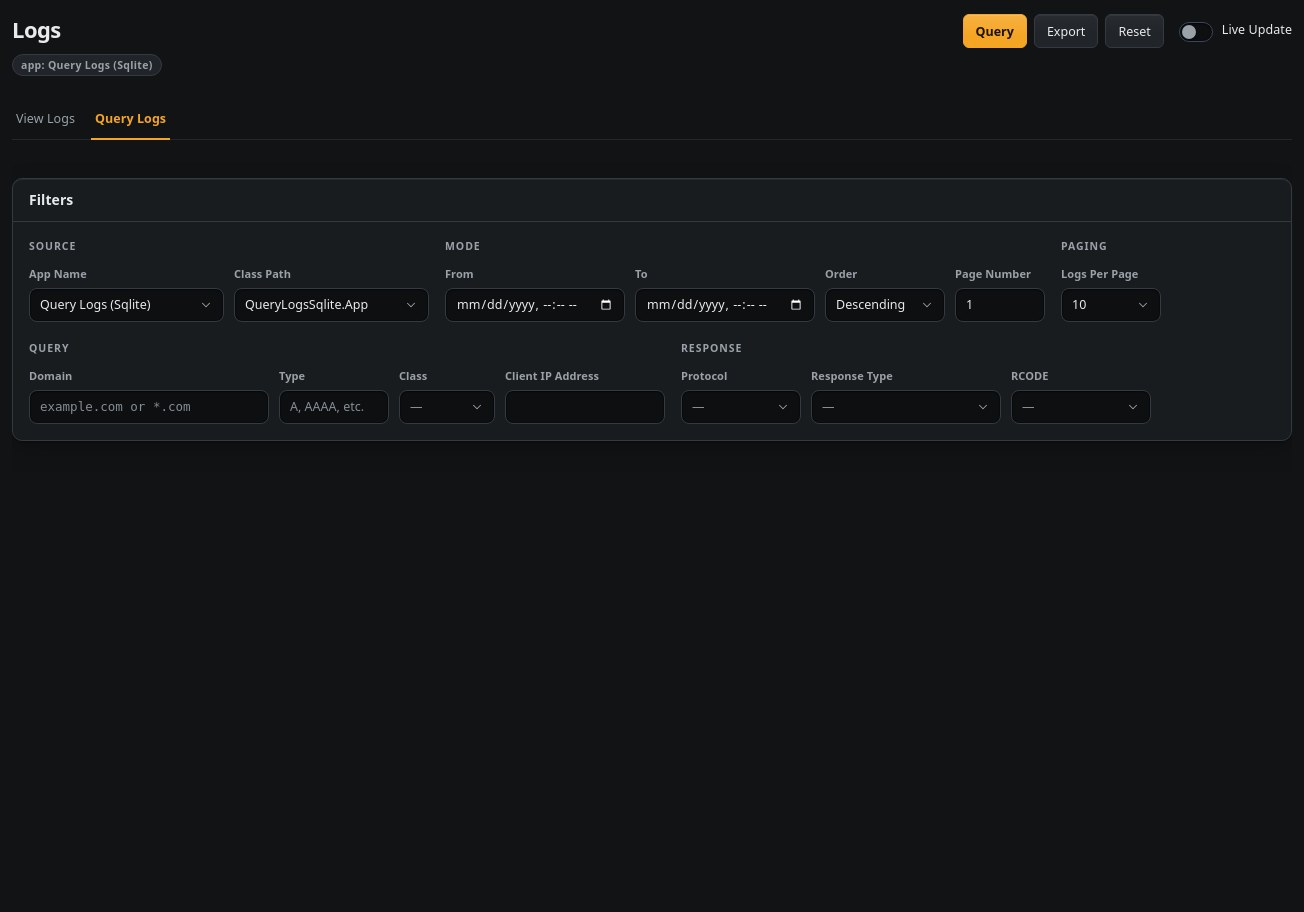
Logs › Query Logs: the form › "Live Update" pins page and order, empties the range and disables those four controls
Check: the dropdown named "App Name" is shown, box x1=29 y1=288 x2=224 y2=322
Click the dropdown named "Order". click: (885, 305)
box: x1=825 y1=288 x2=945 y2=322
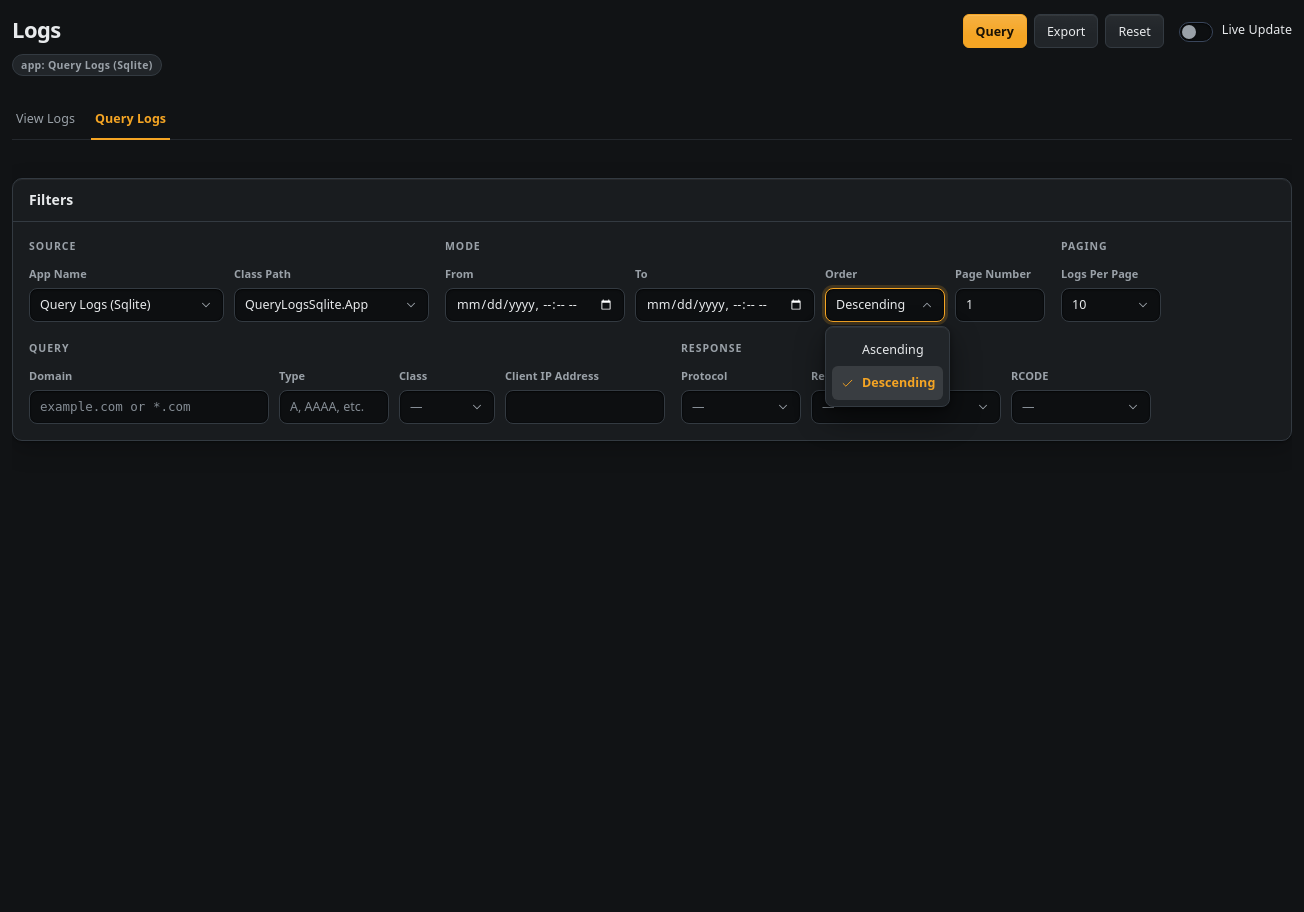
Click the option "Ascending". click: (893, 350)
box: x1=862 y1=341 x2=924 y2=358
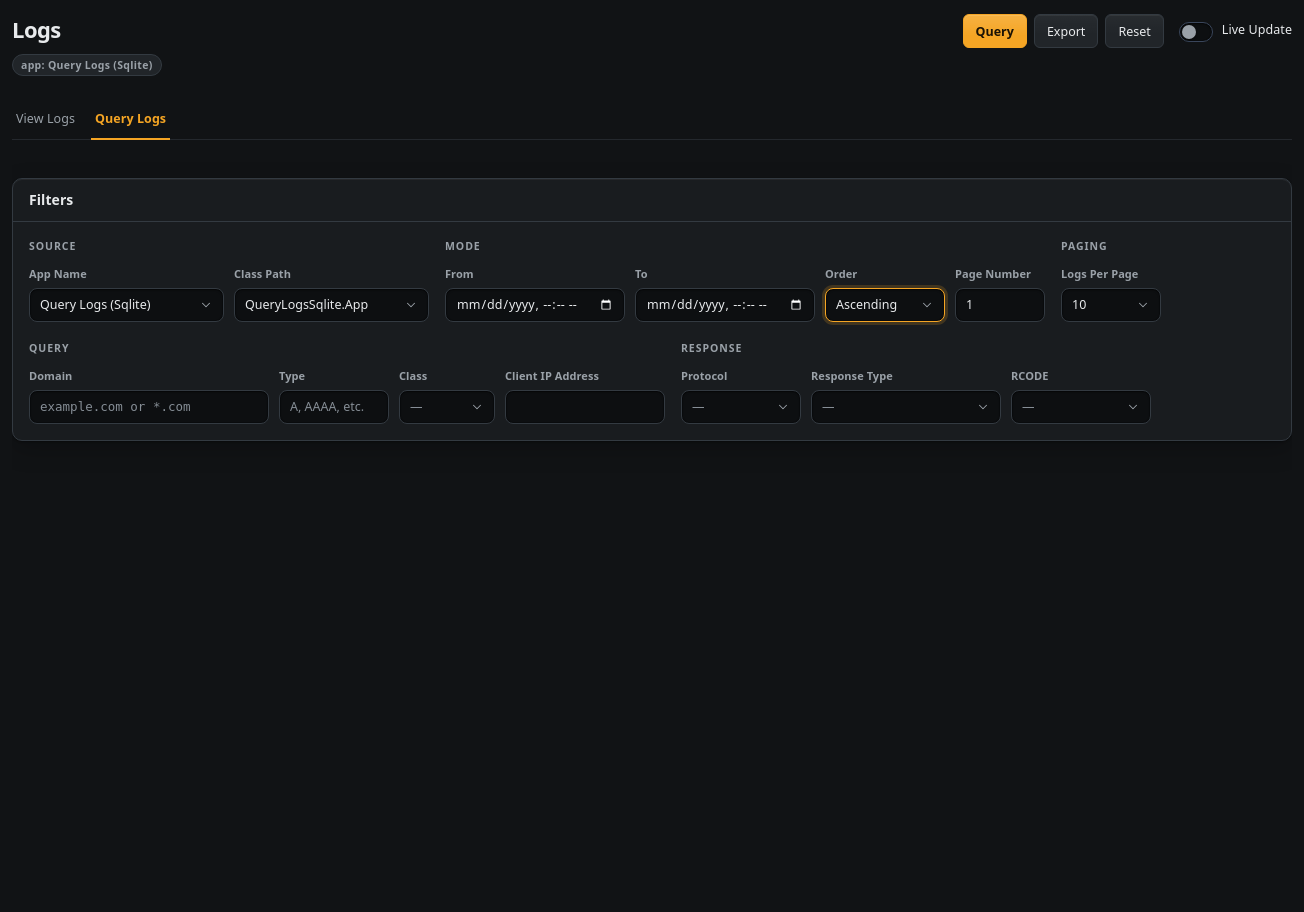
Type "2026-08-25T00:00" into the field labelled "From". click: (535, 305)
box: x1=445 y1=288 x2=625 y2=322
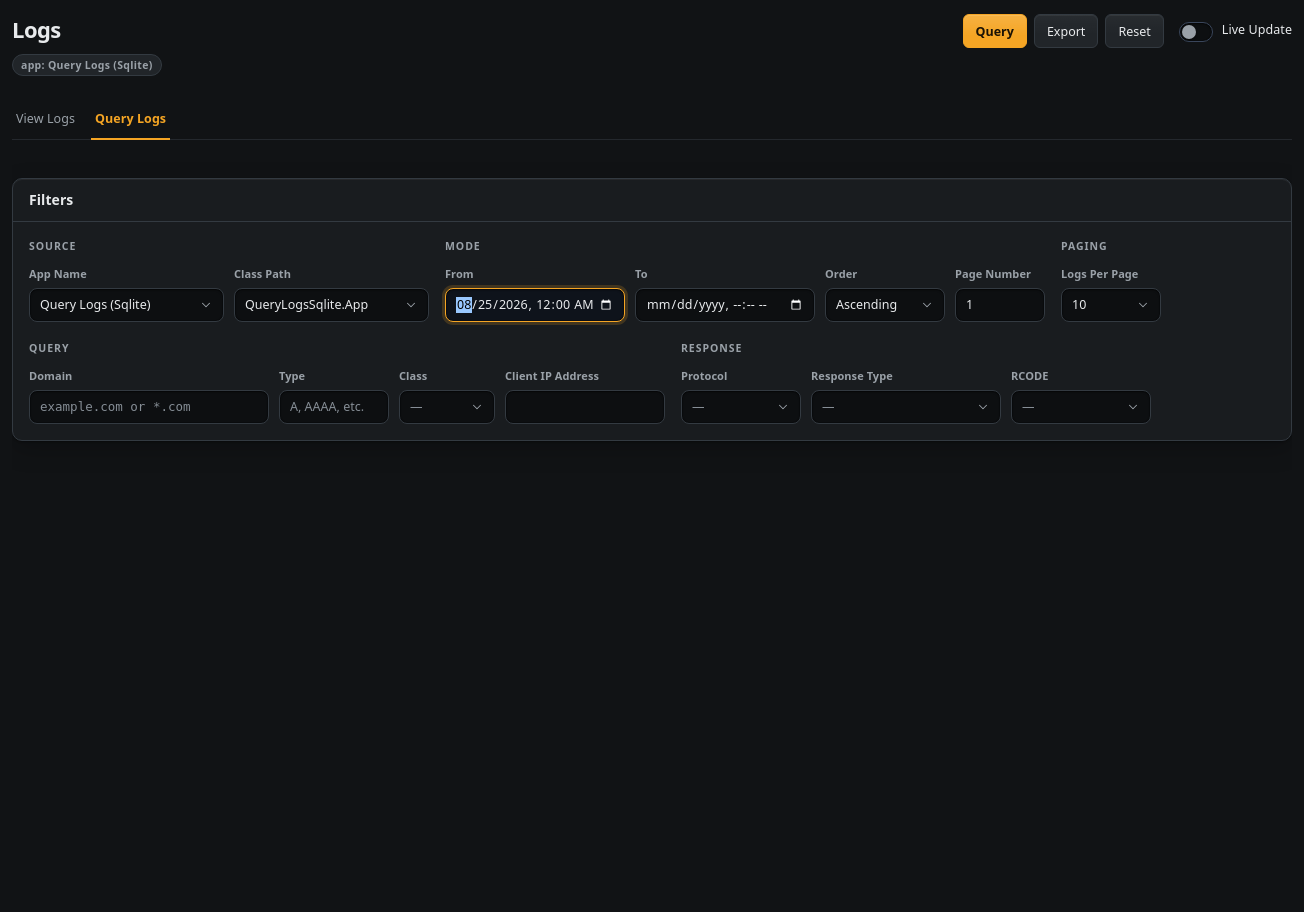
Click the checkbox labelled "Live Update". click: (1196, 32)
box: x1=1179 y1=22 x2=1213 y2=42
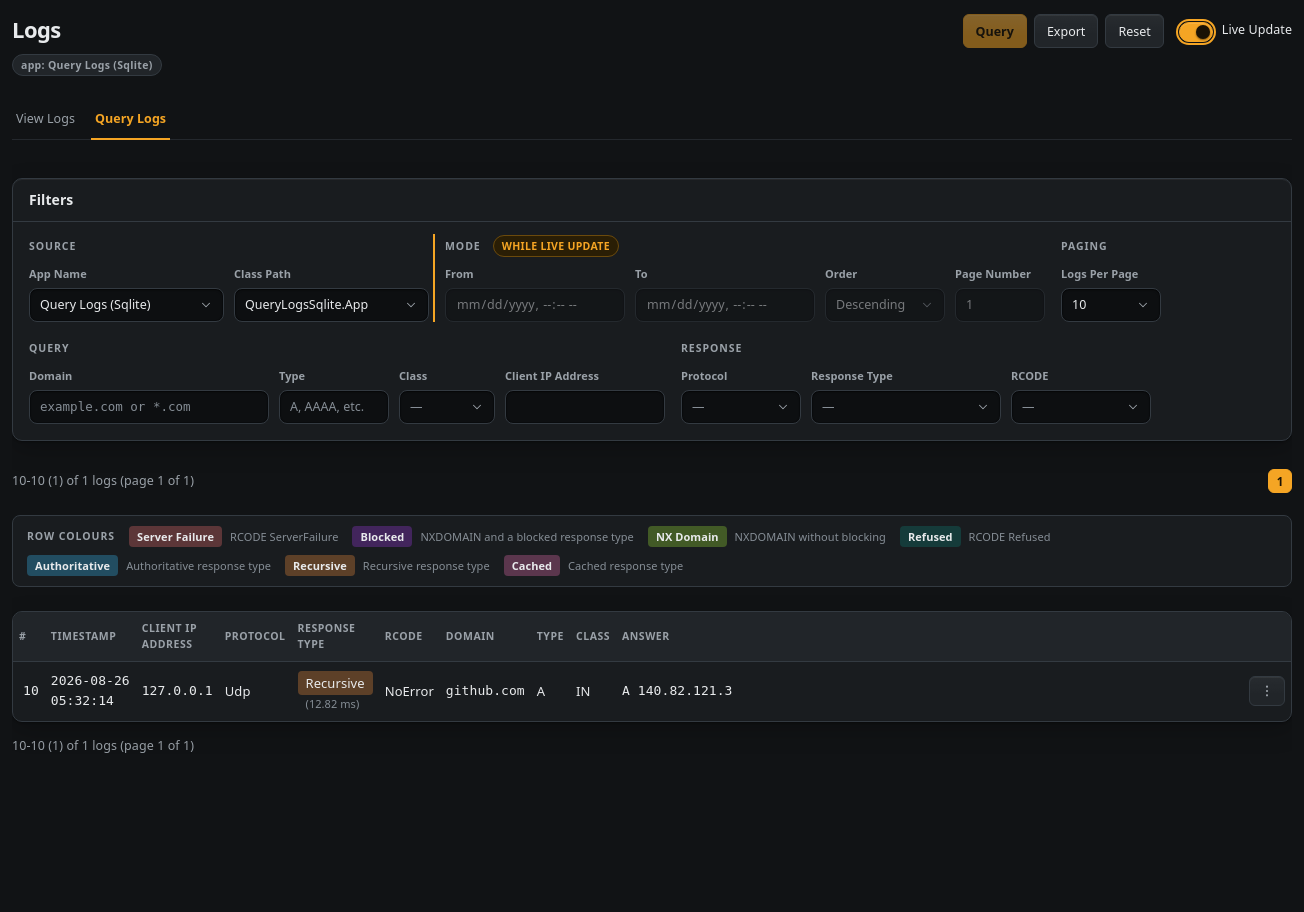
Check: the text "Descending" is shown, box x1=836 y1=297 x2=905 y2=313
Check: the field labelled "From" is empty, box x1=445 y1=288 x2=625 y2=322
Check: the dropdown named "Order" is disabled, box x1=825 y1=288 x2=945 y2=322
